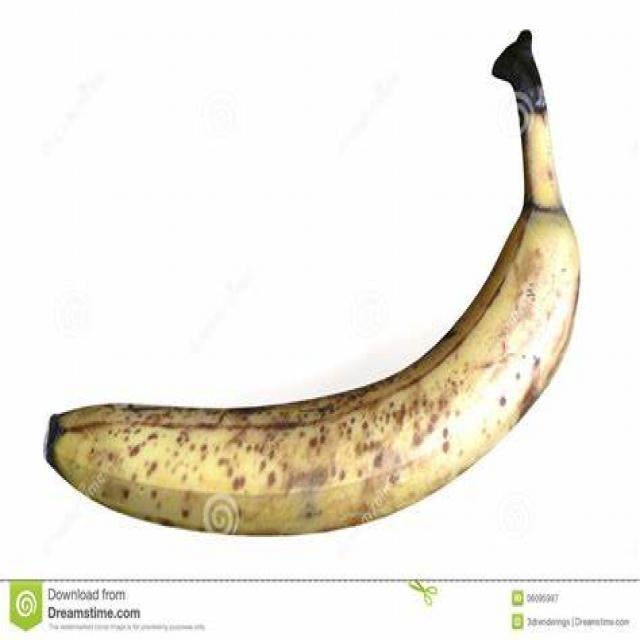Banana: (41, 43, 576, 533)
